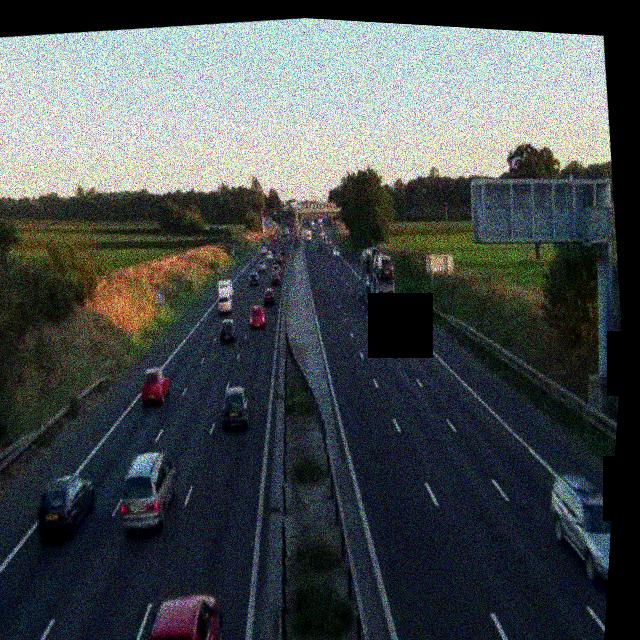car: (541, 465, 614, 596), (112, 447, 182, 537), (31, 469, 100, 543), (137, 587, 227, 640), (219, 381, 255, 431), (137, 364, 172, 407), (215, 315, 238, 344), (246, 302, 267, 329), (261, 284, 276, 305), (268, 270, 281, 288), (248, 269, 260, 284), (330, 243, 340, 257), (277, 247, 287, 260)
truck: (358, 244, 401, 317), (213, 275, 238, 315)
